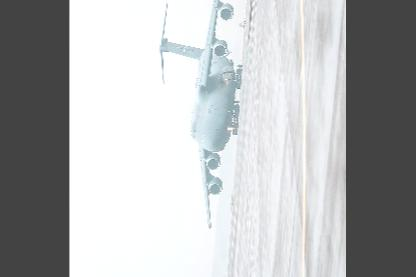C17: (157, 0, 243, 230)
